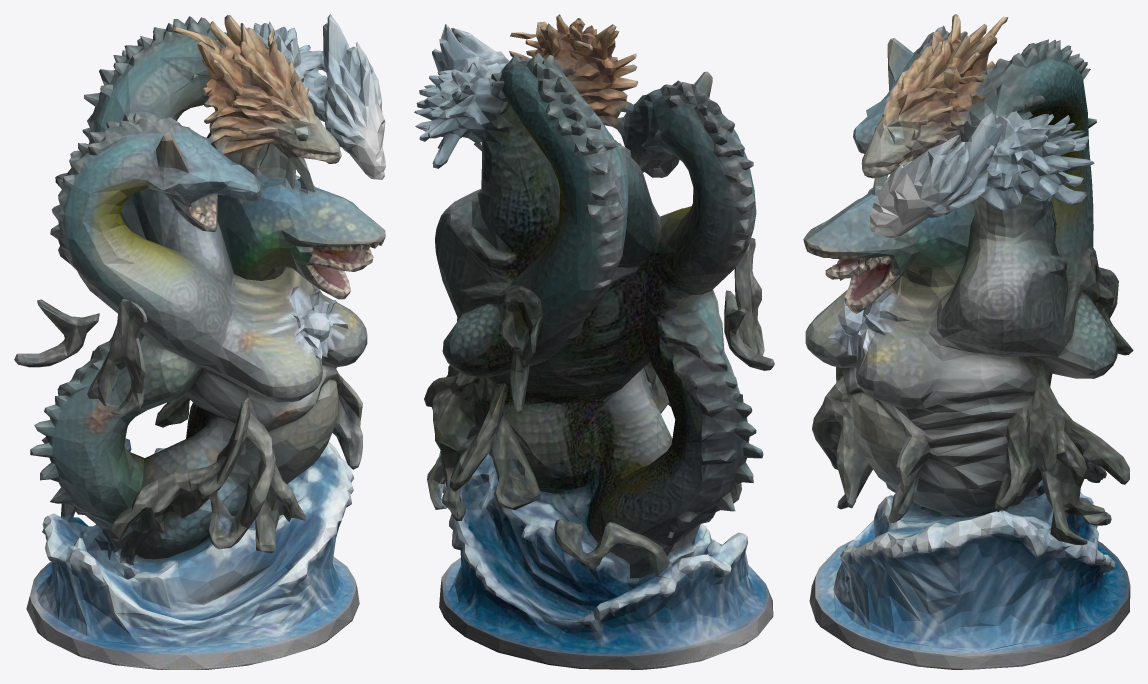
Rendered from motherOfTheMaelstrom.glb.
3 views of the same model, side by side, from view 1: azimuth 30°, elevation 25°; view 2: azimuth 150°, elevation 25°; view 3: azimuth 270°, elevation 25° (orthographic). The views are drawn at different scales.
Visible parts, largest first — view 1: world; view 2: world; view 3: world.
Boxes of the visible parts, left/top/right/bottom form: world: left=14, top=14, right=385, bottom=669; world: left=414, top=14, right=774, bottom=669; world: left=803, top=14, right=1133, bottom=669.
Bounding box in the file's own units: 0.6253 × 0.994 × 0.5073.
Materials: 1 (1 with a texture image).
